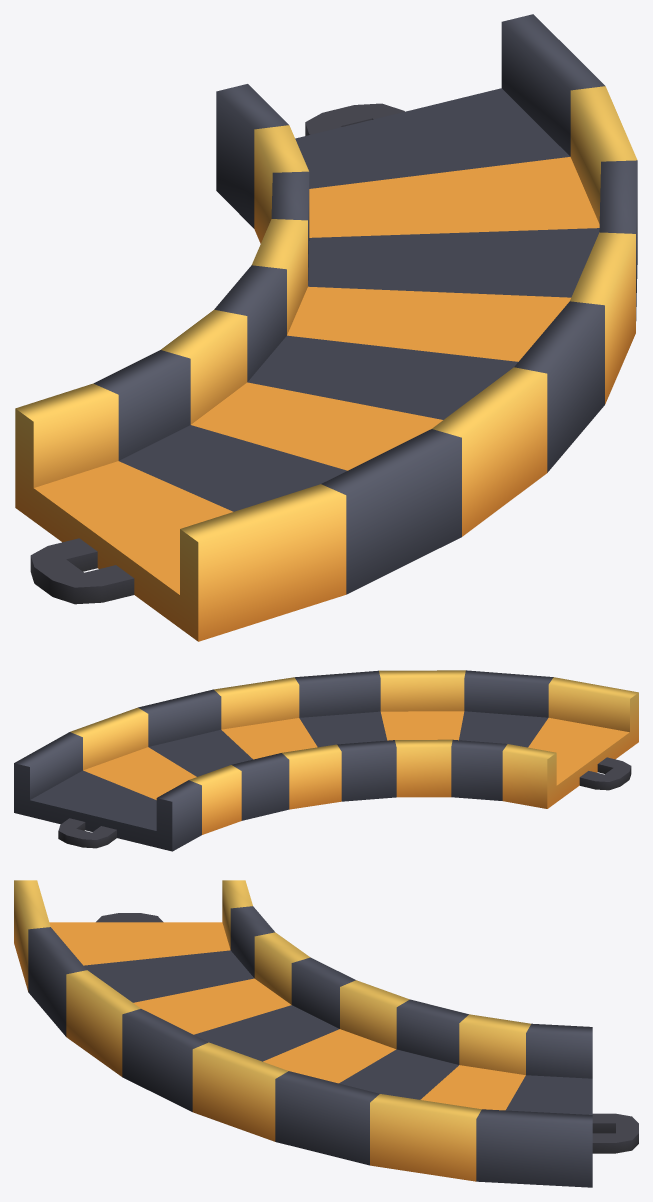
File: track-striped-narrow-corner-small.fbx
3 renders of one model, top to bottom at view 1: azimuth 30°, elevation 25°; view 2: azimuth 150°, elevation 25°; view 3: azimuth 270°, elevation 25°, orthographic. The views are drawn at different scales.
Parts seen in each view (by area): view 1: track-striped-narrow-corner-small; view 2: track-striped-narrow-corner-small; view 3: track-striped-narrow-corner-small.
Part boxes in pixels (x1,y1,x2,y2): track-striped-narrow-corner-small: (15,14,637,641); track-striped-narrow-corner-small: (14,670,638,851); track-striped-narrow-corner-small: (14,880,638,1187).
Bounding box in the file's own units: 270 × 30 × 270.
